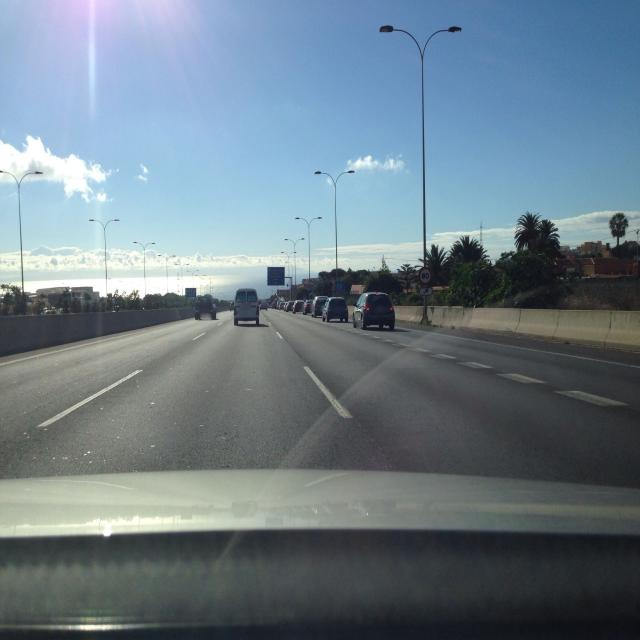car: (352, 291, 396, 331), (233, 288, 260, 326), (322, 296, 348, 322), (193, 295, 218, 320), (311, 296, 328, 317), (292, 300, 305, 314), (303, 299, 314, 314), (285, 300, 294, 312)
